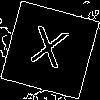X: (25, 25, 70, 78)
